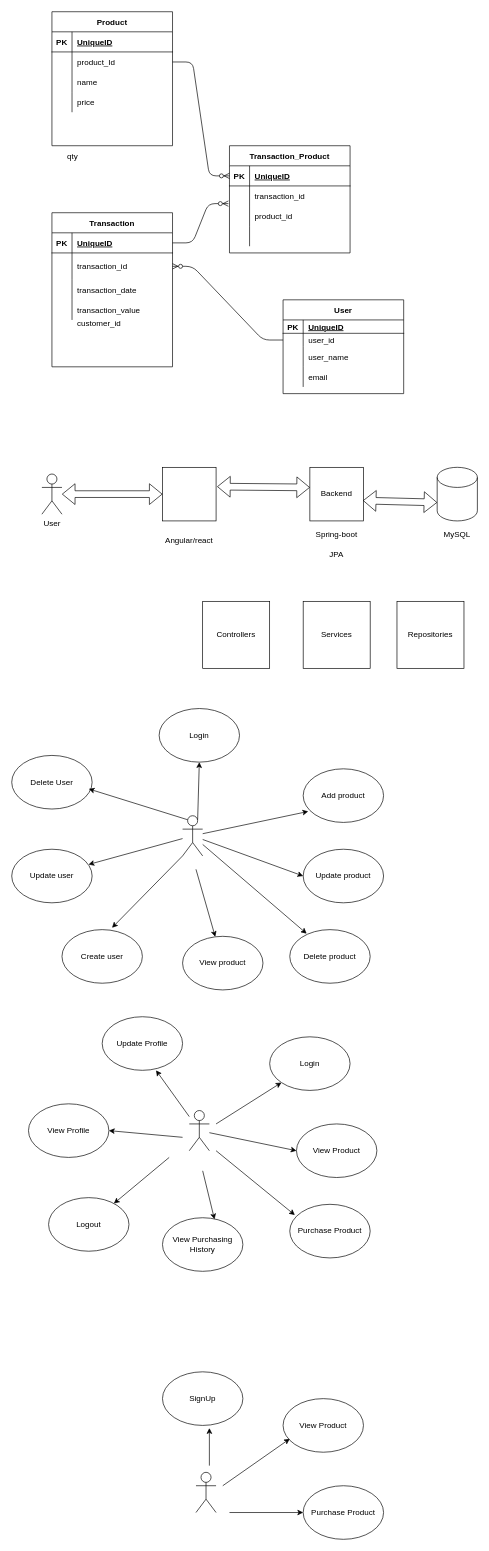
Image size: 489x1551. Some labels were removed from this diagram. Each missing label, with the centre of its shape:
"Admin" belongs at point 192,835.
"DB" belongs at point 457,494.
"Front end" belongs at point 189,494.
"NON_REG_USER" belongs at point 205,1492.
"REG_USER" belongs at point 199,1130.
